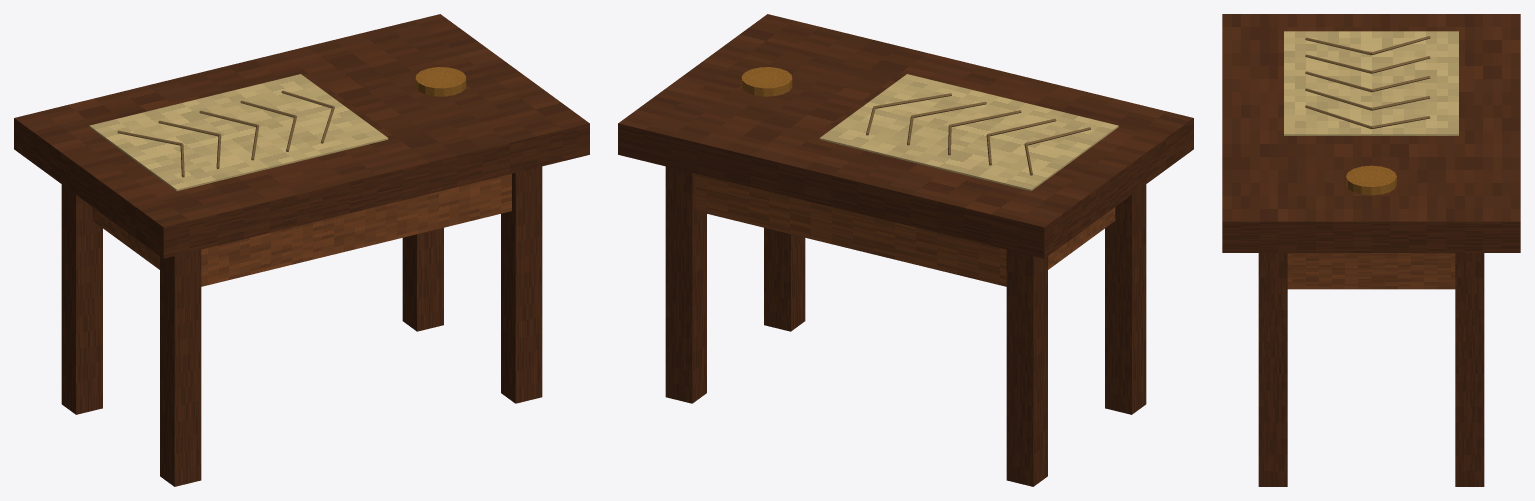
The model's file is SM_chart_table.gltf.
3 views of the same model, side by side, from view 1: azimuth 30°, elevation 25°; view 2: azimuth 150°, elevation 25°; view 3: azimuth 270°, elevation 25° (orthographic).
Visible parts, largest first — view 1: root; view 2: root; view 3: root.
Boxes of the visible parts, x1,y1,x2,y2 form: root: [14, 14, 589, 486]; root: [618, 14, 1193, 486]; root: [1222, 14, 1520, 486].
Bounding box in the file's own units: 1.35 × 0.875 × 0.82.
Materials: 5 (5 with a texture image).
